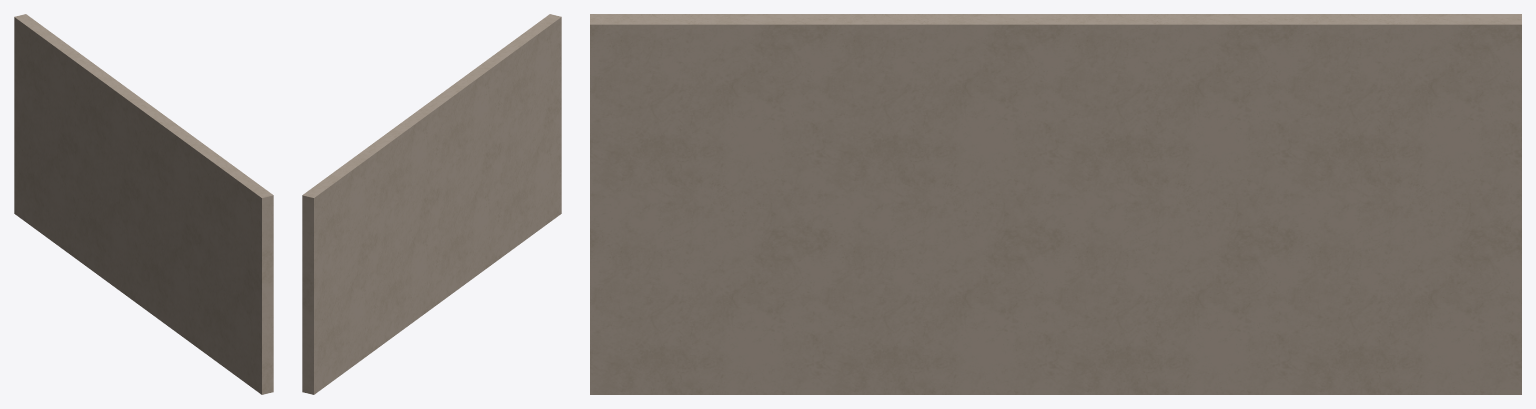
The model's file is modulo_pared.fbx.
The picture shows the model from 3 angles, left to right: view 1: azimuth 30°, elevation 25°; view 2: azimuth 150°, elevation 25°; view 3: azimuth 270°, elevation 25°; orthographic projection. The views are drawn at different scales.
Parts seen in each view (by area): view 1: Pared trasera.001; view 2: Pared trasera.001; view 3: Pared trasera.001.
Part boxes in pixels (left/top/right/bottom): Pared trasera.001: left=14, top=14, right=273, bottom=394; Pared trasera.001: left=302, top=14, right=561, bottom=394; Pared trasera.001: left=590, top=14, right=1521, bottom=394.
Bounding box in the file's own units: 22 × 351 × 800.
Materials: 1 (1 with a texture image).
